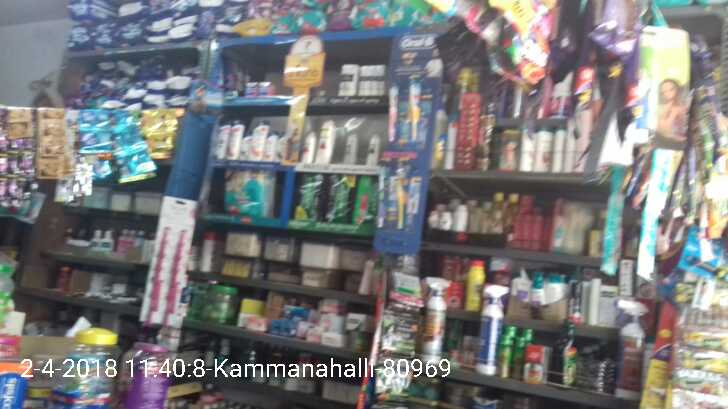oralcare: (395, 161, 422, 241), (405, 74, 429, 147), (384, 79, 402, 147), (374, 159, 389, 239)
vicks: (242, 80, 272, 99)
